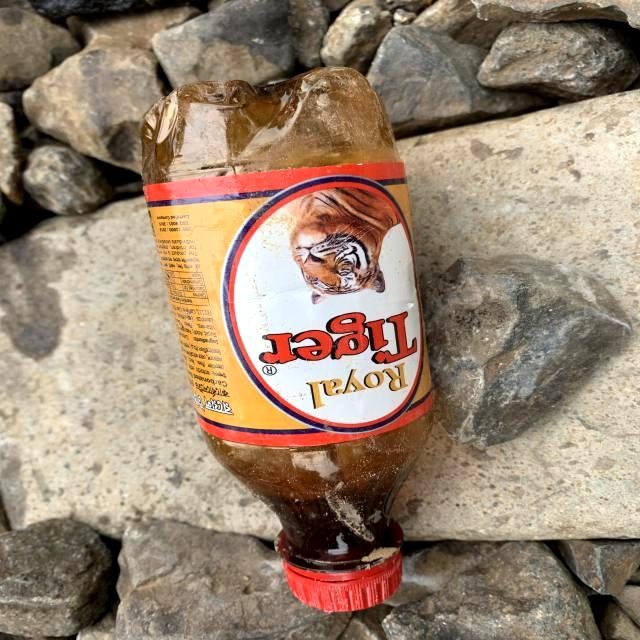bottle: (166, 74, 439, 614)
